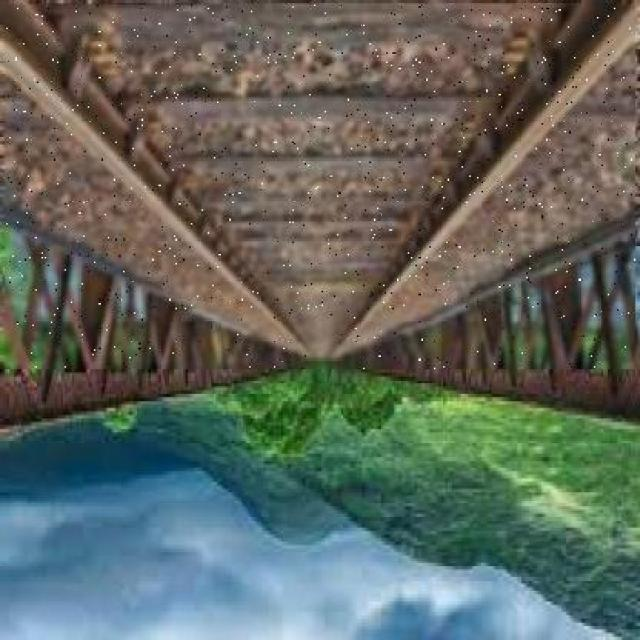rail: (5, 5, 635, 368)
